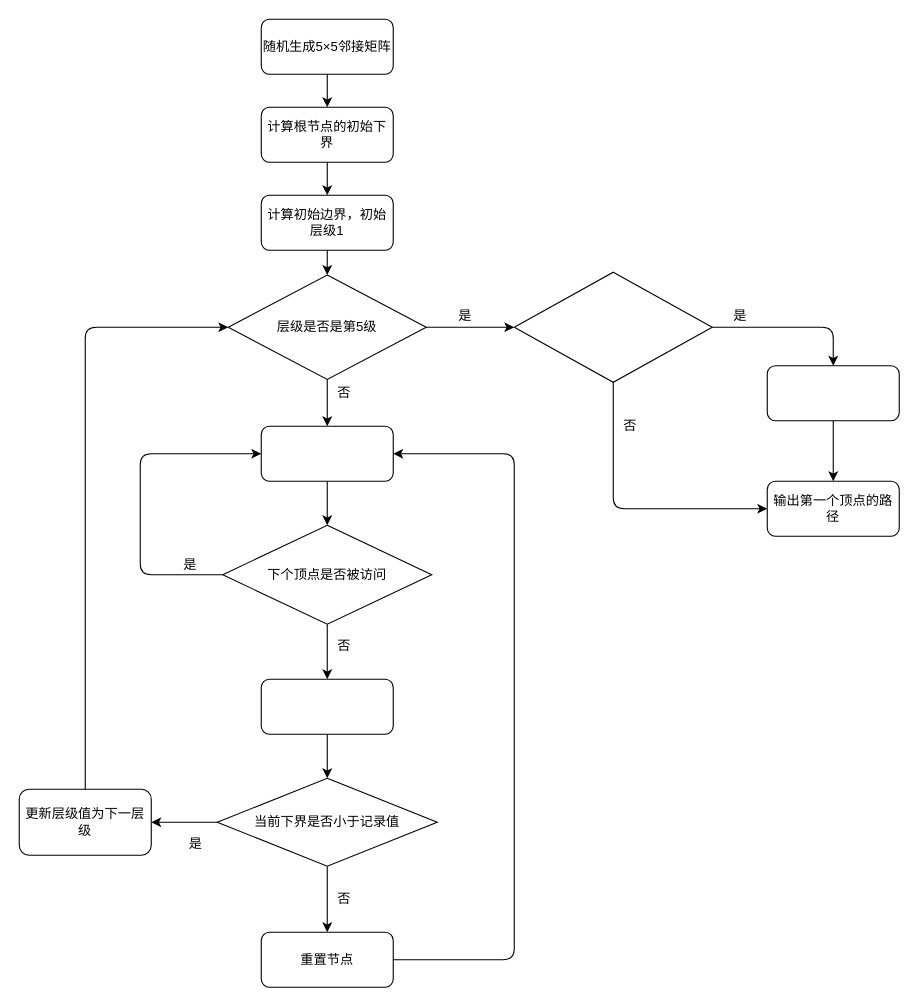
Some shapes in this 919 by 1007 pixel diagram are drawn without their labels. The shapes that lost their labels are listed below. From the top down, each one's centre as x and y in pixels, then its label:
At pixel 612 326: "当前路径是否比记录路径更优".
At pixel 832 393: "更新记录路径".
At pixel 326 453: "构建搜索树".
At pixel 326 706: "计算下个顶点的新下界".
